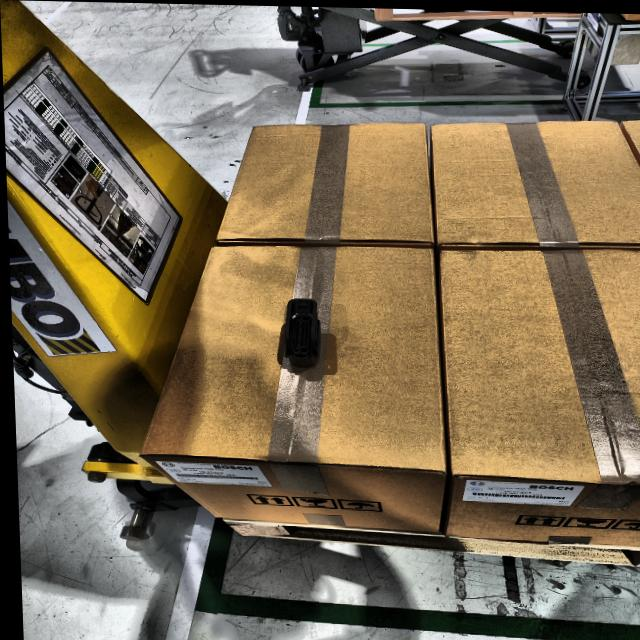P38: (281, 298, 318, 371)
